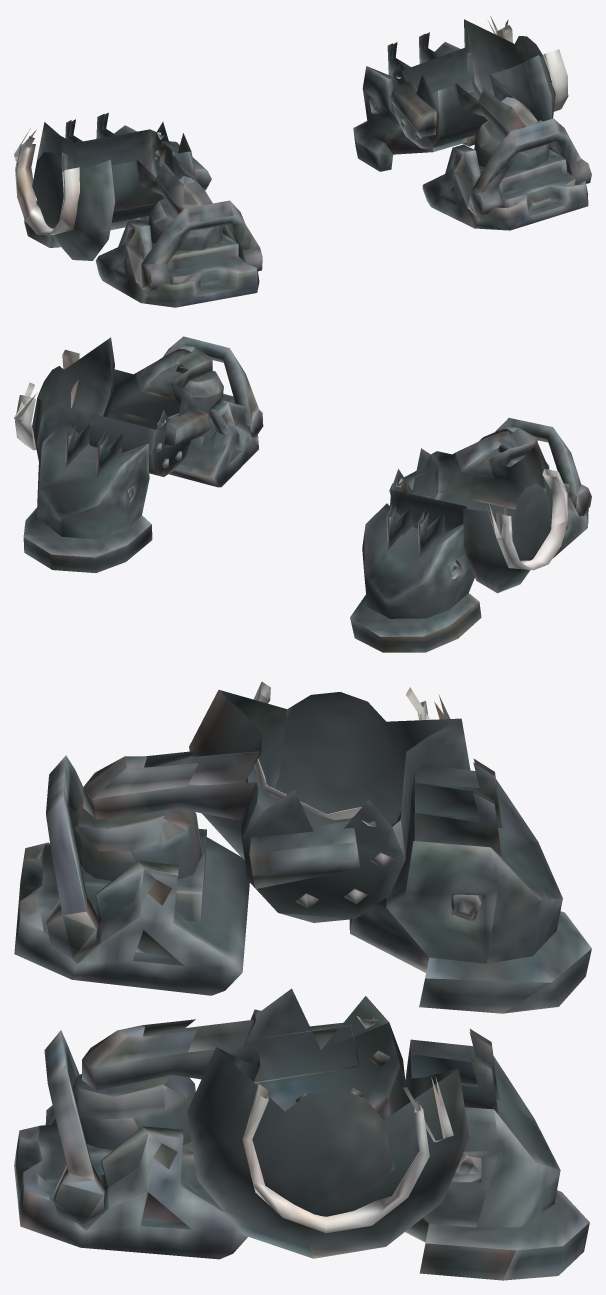
The model's file is item.armor.power_frame_boots.glb.
3 views of the same model, one above another, from view 1: azimuth 30°, elevation 25°; view 2: azimuth 150°, elevation 25°; view 3: azimuth 270°, elevation 25° (orthographic). The views are drawn at different scales.
Visible parts, largest first — view 1: _MeshInstance3D_85, _MeshInstance3D_86; view 2: _MeshInstance3D_85, _MeshInstance3D_86; view 3: _MeshInstance3D_86, _MeshInstance3D_85.
Part boxes in pixels (x1=…): _MeshInstance3D_85: x1=353, y1=16, x2=591, y2=230; _MeshInstance3D_86: x1=14, y1=112, x2=262, y2=307; _MeshInstance3D_85: x1=14, y1=336, x2=263, y2=572; _MeshInstance3D_86: x1=350, y1=418, x2=591, y2=652; _MeshInstance3D_86: x1=14, y1=682, x2=591, y2=1013; _MeshInstance3D_85: x1=14, y1=988, x2=589, y2=1280.
Bounding box in the file's own units: 1.19 × 0.3204 × 0.6741.
Materials: 2 (2 with a texture image).
